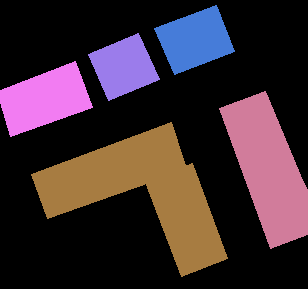parkingspot: (31, 122, 186, 218), (219, 91, 308, 248), (145, 163, 227, 276), (0, 61, 92, 136), (154, 5, 234, 74), (88, 33, 159, 100)
